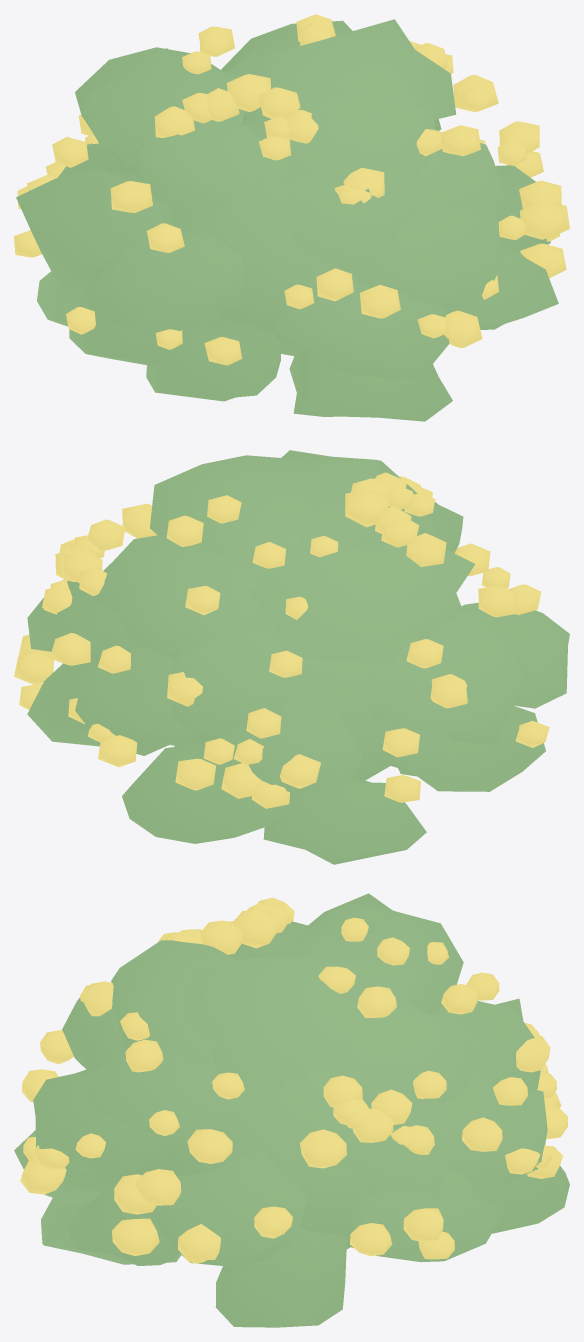
File: Blender_Gorse_3.glb
3 views of the same model, one above another, from view 1: azimuth 30°, elevation 25°; view 2: azimuth 150°, elevation 25°; view 3: azimuth 270°, elevation 25° (orthographic). The views are drawn at different scales.
Parts seen in each view (by area): view 1: Blender_Gorse_3; view 2: Blender_Gorse_3; view 3: Blender_Gorse_3.
Boxes of the visible parts, x1,y1,x2,y2 form: Blender_Gorse_3: (14, 14, 569, 421); Blender_Gorse_3: (14, 450, 569, 864); Blender_Gorse_3: (14, 893, 569, 1327).
Bounding box in the file's own units: 3.15 × 1.85 × 3.02.
